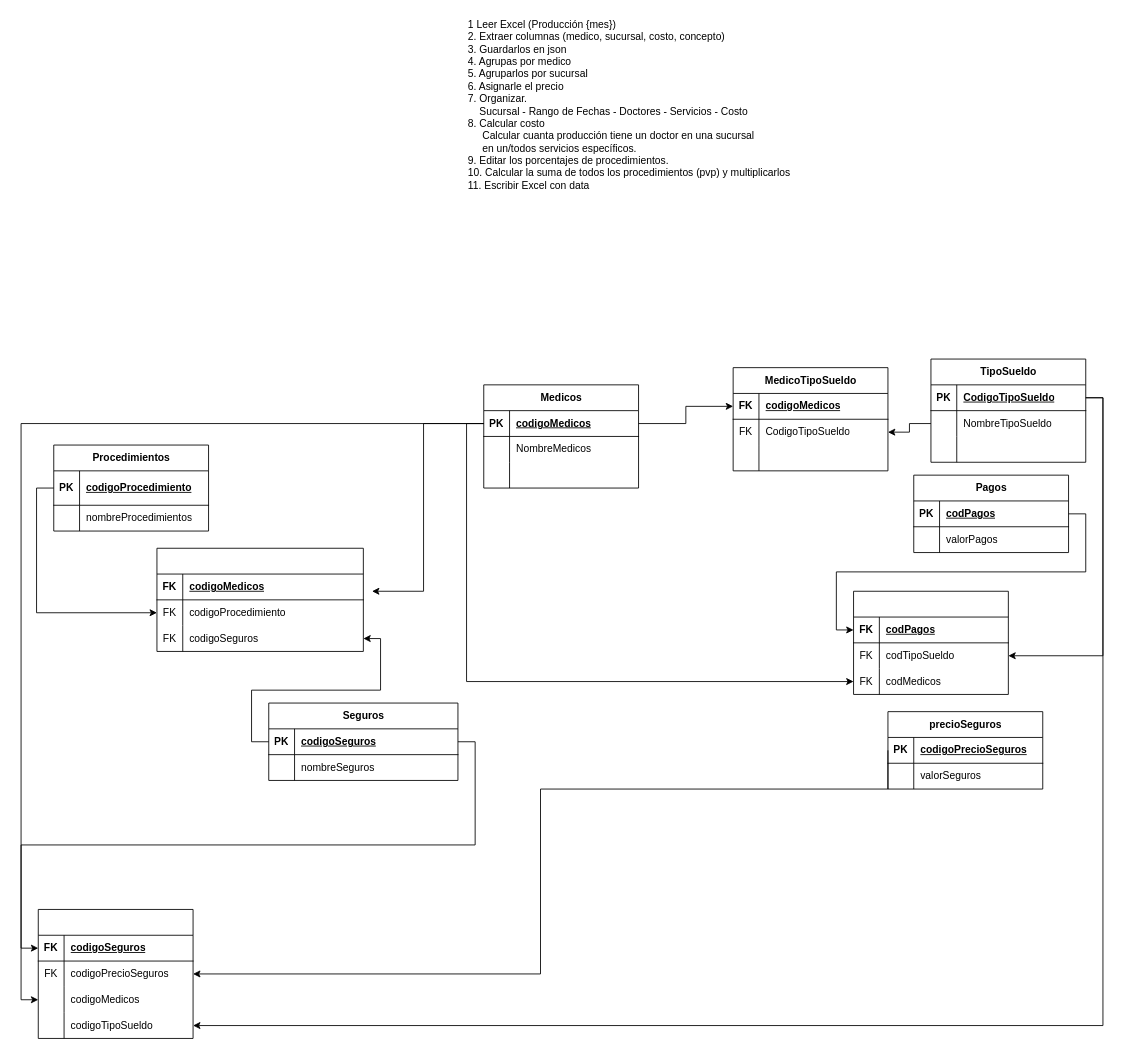
This 1125x1054 diagram has some shape labels left out. Here are the shapes that lost their labels. From the top down, the box of each, then its label:
(156, 547, 363, 651): MedicosProcedimientosSeguros
(853, 590, 1008, 694): PagosTipoSueldo
(37, 909, 193, 1038): SegurosprecioSeguros
